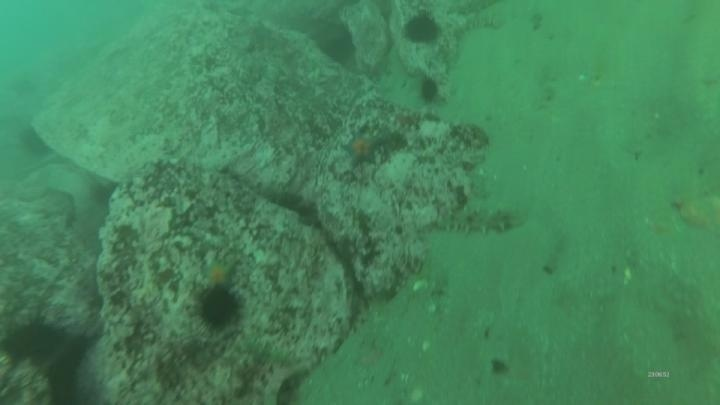echinus: (1, 314, 69, 368), (195, 285, 242, 331), (401, 11, 442, 47), (17, 125, 53, 160), (415, 75, 443, 105)
holothurian: (435, 201, 527, 238)
starfish: (340, 128, 384, 167), (200, 256, 238, 291)
